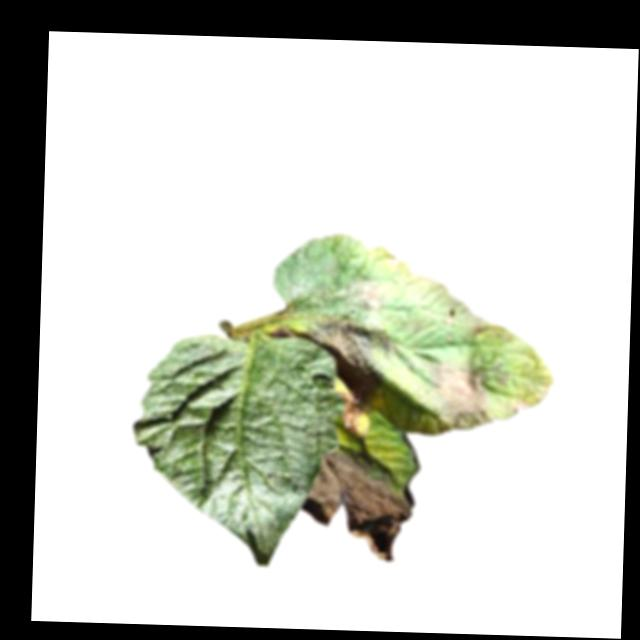Late_blight: (302, 443, 415, 564), (304, 313, 393, 397), (427, 363, 493, 433), (330, 274, 394, 314), (337, 393, 369, 442), (506, 393, 529, 419), (383, 254, 407, 272)
healthy: (131, 335, 340, 571)
